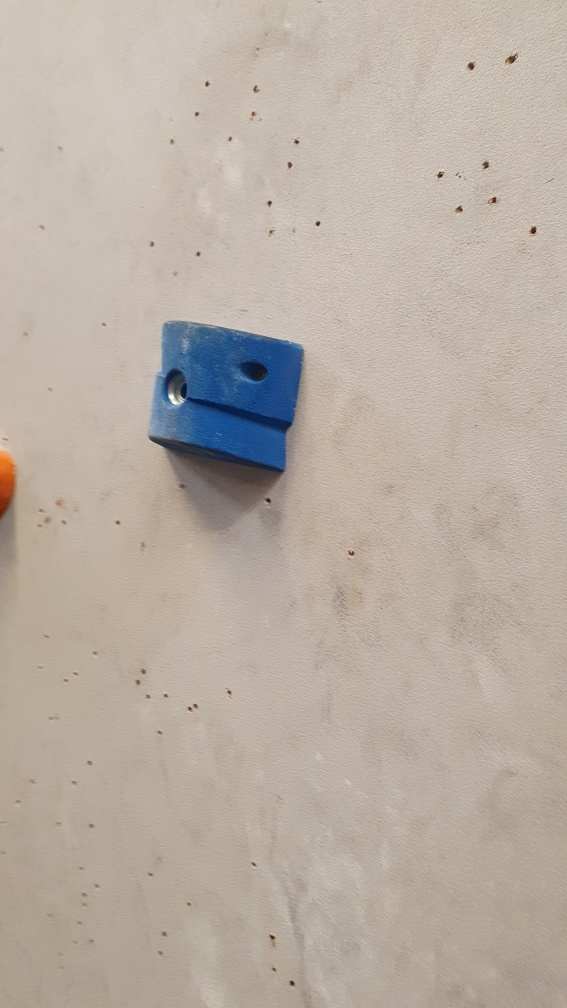Pinch: (148, 309, 306, 480)
